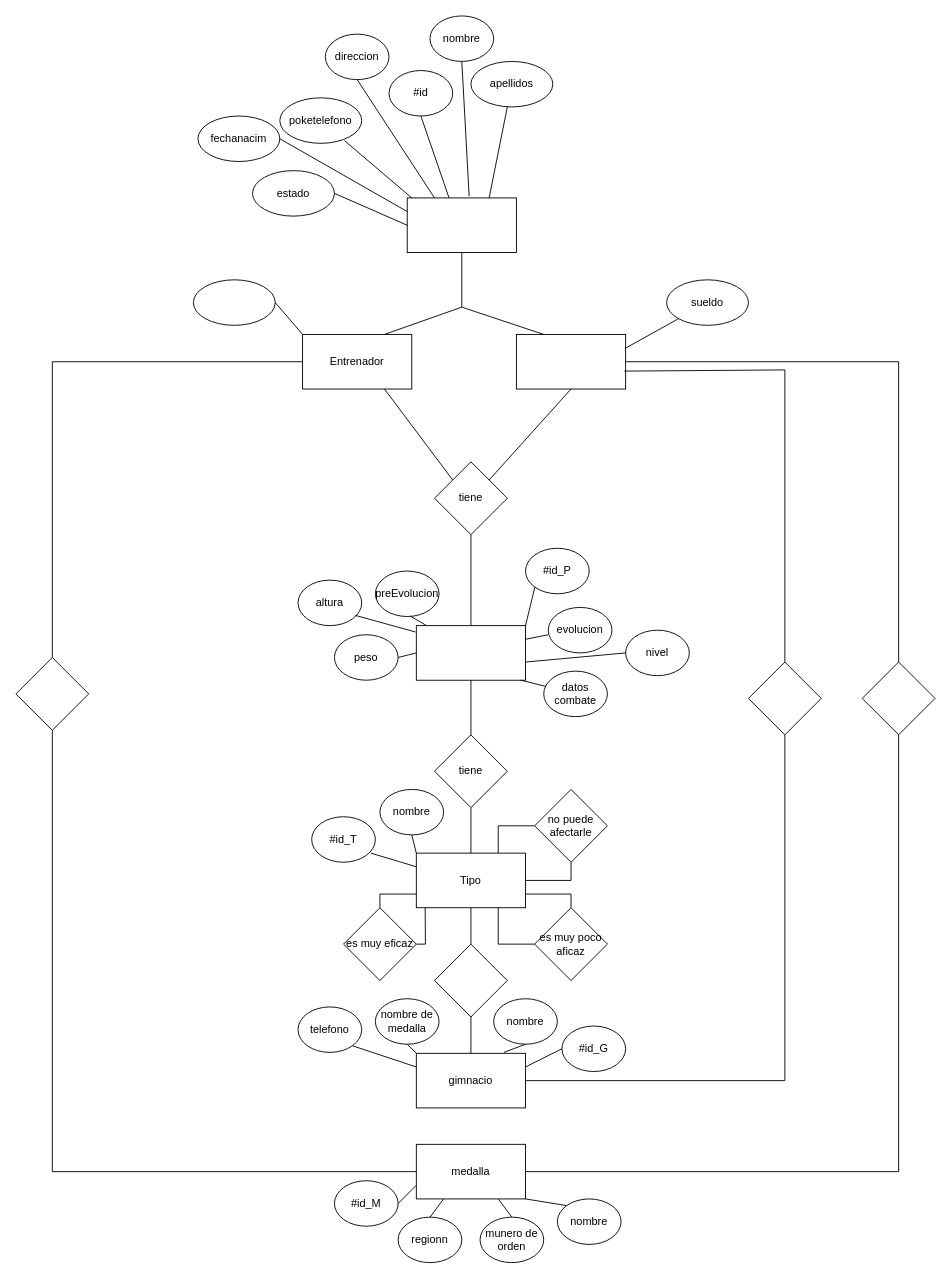
Some shapes in this 951 by 1279 pixel diagram are drawn without their labels. Here are the shapes that lost their labels. From the top down, the centre of each, then its label:
(461,225): Persona
(233,302): ciudad de origen
(571,361): Lider
(470,652): Pokemon
(52,693): ganada
(784,698): dirigido
(898,698): conceden
(470,980): relacionado
